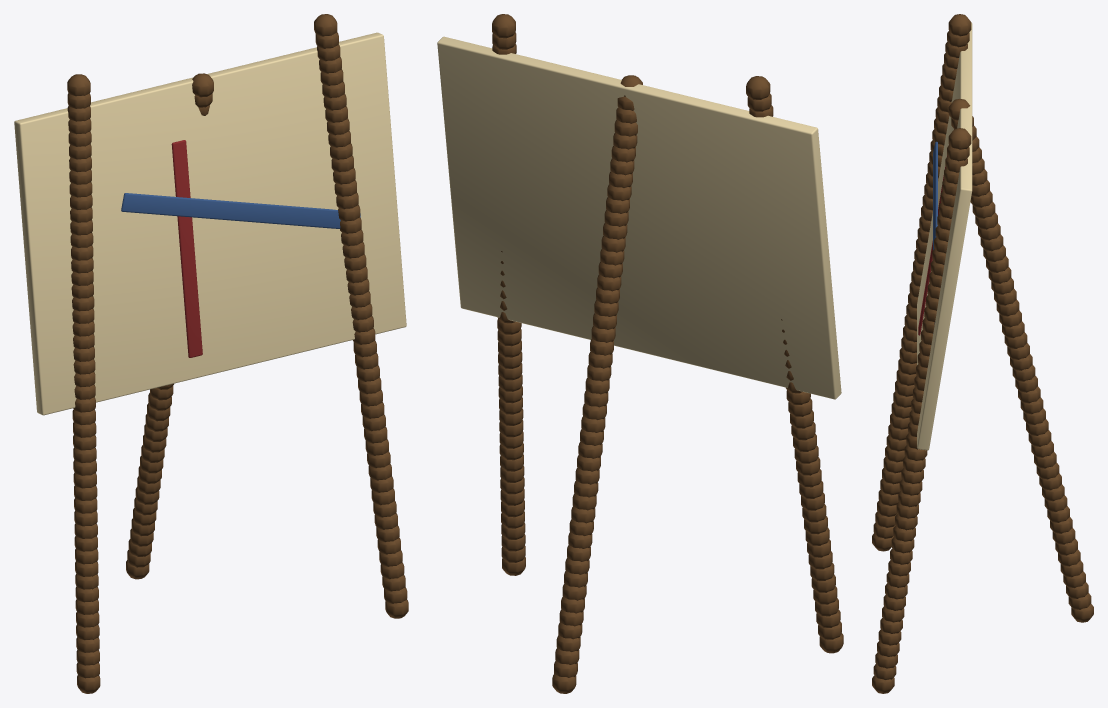
The model's file is mapa_antigo.glb.
3 views of the same model, side by side, from view 1: azimuth 30°, elevation 25°; view 2: azimuth 150°, elevation 25°; view 3: azimuth 270°, elevation 25° (orthographic). The views are drawn at different scales.
Visible parts, largest first — view 1: mapa_antigo; view 2: mapa_antigo; view 3: mapa_antigo.
Boxes of the visible parts, x1,y1,x2,y2 form: mapa_antigo: [14, 14, 408, 693]; mapa_antigo: [437, 14, 843, 693]; mapa_antigo: [872, 14, 1093, 693].
Size of the model in its own units: 1.3 by 1.98 by 0.7237.
